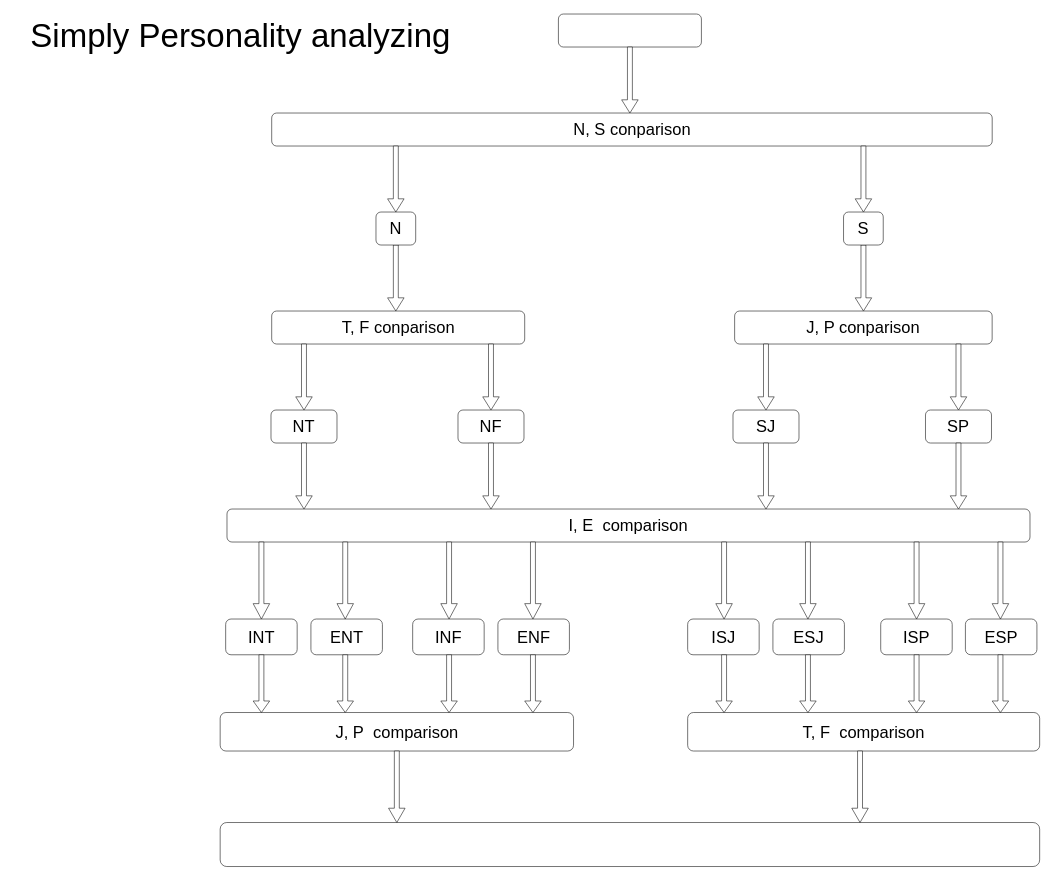
Some shapes in this 1049 by 876 pixel diagram are drawn without their labels. The shapes that lost their labels are listed below. From the top down, each one's box as (x1, y1, x2, y2) in pixels, then its label:
(558, 13, 701, 47): result List
(220, 822, 1040, 867): 16 types
